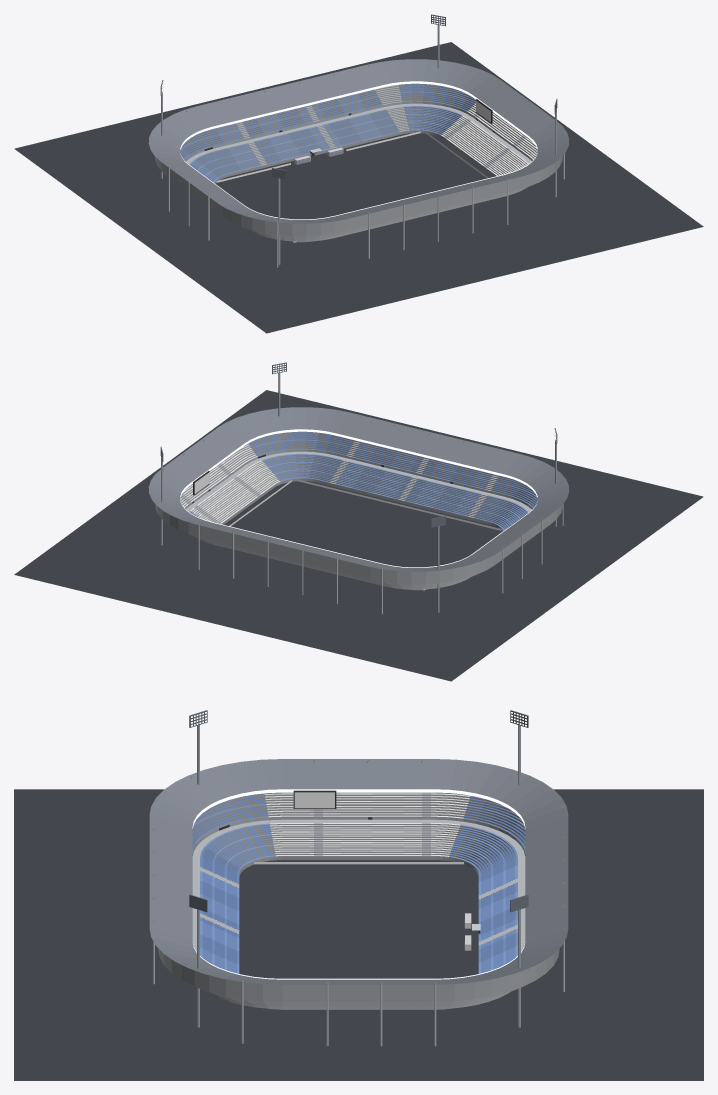
The model's file is stadium_bowl.glb.
3 views of the same model, one above another, from view 1: azimuth 30°, elevation 25°; view 2: azimuth 150°, elevation 25°; view 3: azimuth 270°, elevation 25° (orthographic). The views are drawn at different scales.
Visible parts, largest first — view 1: concourse, stand_concrete, roof, stand_seats, roof_fascia, floodlight_masts, roof_columns, ad_ring; view 2: concourse, stand_concrete, roof, stand_seats, roof_fascia, roof_columns, floodlight_masts, ad_ring; view 3: concourse, roof, stand_concrete, stand_seats, floodlight_masts, roof_fascia, roof_columns, screens, ad_ring.
Part boxes in pixels (<box>): concourse: <box>14,42,703,333</box>; stand_concrete: <box>155,63,562,242</box>; roof: <box>148,59,569,223</box>; stand_seats: <box>180,84,537,182</box>; roof_fascia: <box>180,81,537,219</box>; floodlight_masts: <box>160,14,557,264</box>; roof_columns: <box>168,65,564,267</box>; ad_ring: <box>215,131,488,242</box>; concourse: <box>14,390,703,681</box>; stand_concrete: <box>155,411,562,590</box>; roof: <box>148,407,569,571</box>; stand_seats: <box>180,432,537,530</box>; roof_fascia: <box>180,429,537,567</box>; roof_columns: <box>163,416,563,614</box>; floodlight_masts: <box>160,362,557,612</box>; ad_ring: <box>229,479,502,590</box>; concourse: <box>14,789,703,1080</box>; roof: <box>149,759,568,984</box>; stand_concrete: <box>158,792,559,1009</box>; stand_seats: <box>192,793,525,973</box>; floodlight_masts: <box>189,710,528,1027</box>; roof_fascia: <box>192,789,525,979</box>; roof_columns: <box>153,760,564,1046</box>; screens: <box>294,792,334,808</box>; ad_ring: <box>254,862,463,864</box>.
Bounding box in the file's own units: 239 × 49.68 × 239.
